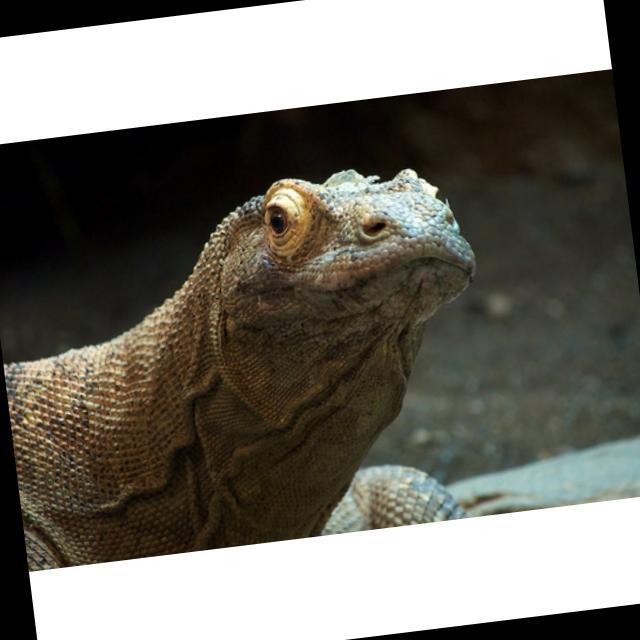KomodoDragon: (0, 154, 504, 569)
